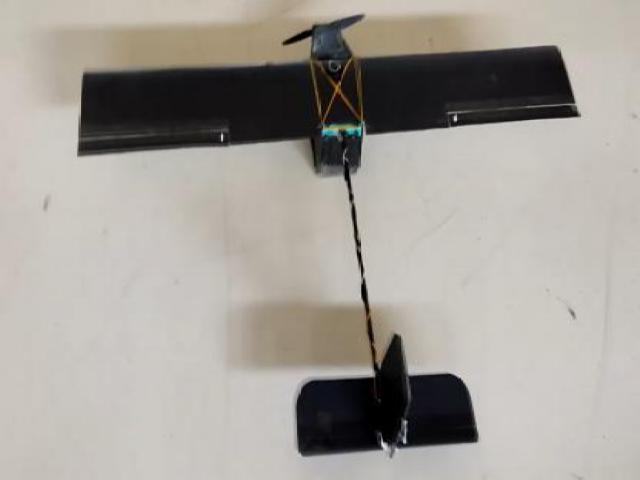uav: (76, 20, 584, 458)
